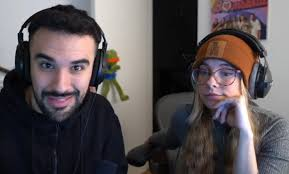person: (126, 28, 288, 173), (0, 4, 128, 173)
